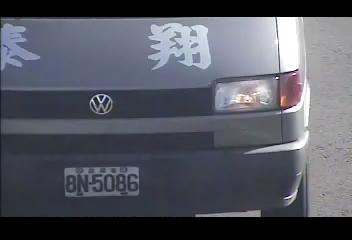plate: (62, 165, 141, 197)
